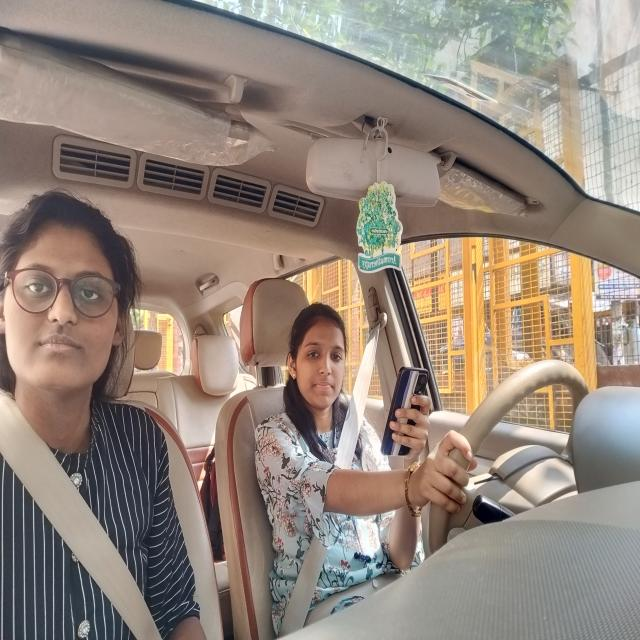mobile: (376, 360, 435, 461)
person: (0, 188, 144, 415), (286, 302, 350, 416)
